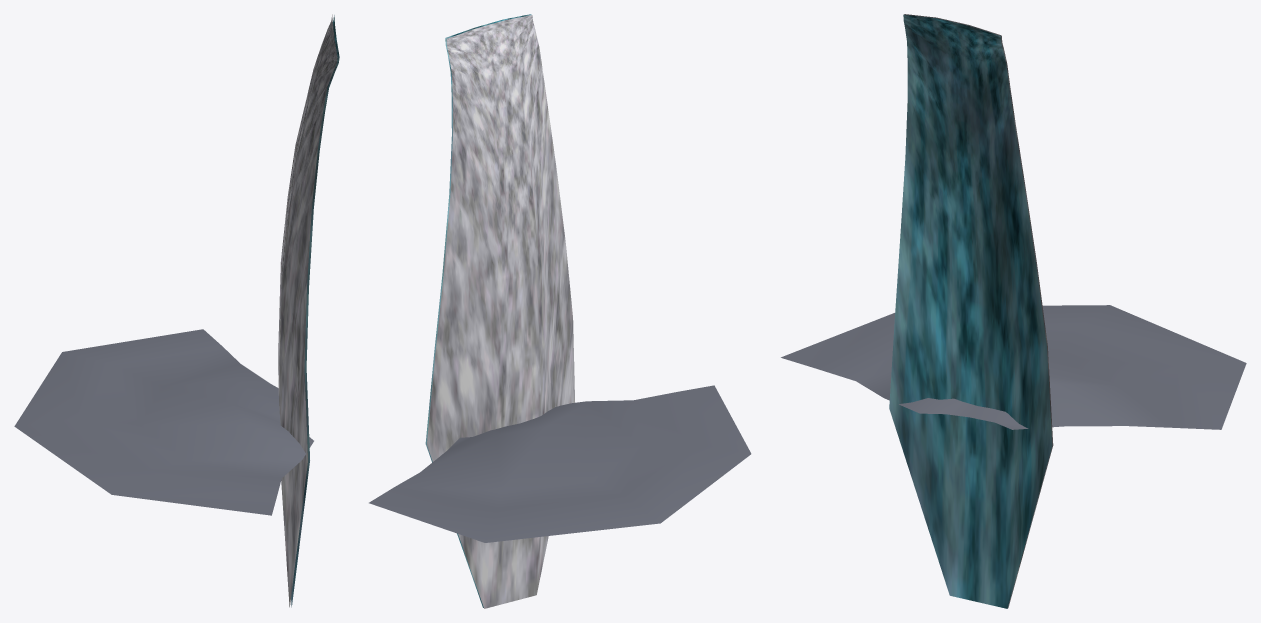
Rendered from EKH_GROTTO_PS_GR_WATERFALLS49487.fbx.
The picture shows the model from 3 angles, left to right: view 1: azimuth 30°, elevation 25°; view 2: azimuth 150°, elevation 25°; view 3: azimuth 270°, elevation 25°; orthographic projection. The views are drawn at different scales.
Parts seen in each view (by area): view 1: EKH_GROTTO_PS_GR_WATERFALLS49487; view 2: EKH_GROTTO_PS_GR_WATERFALLS49487; view 3: EKH_GROTTO_PS_GR_WATERFALLS49487.
Part boxes in pixels (<box>): EKH_GROTTO_PS_GR_WATERFALLS49487: <box>14,14,339,607</box>; EKH_GROTTO_PS_GR_WATERFALLS49487: <box>369,14,751,608</box>; EKH_GROTTO_PS_GR_WATERFALLS49487: <box>781,14,1246,608</box>.
Size of the model in its own units: 95234 by 191437 by 135384.
Materials: 3 (3 with a texture image).
